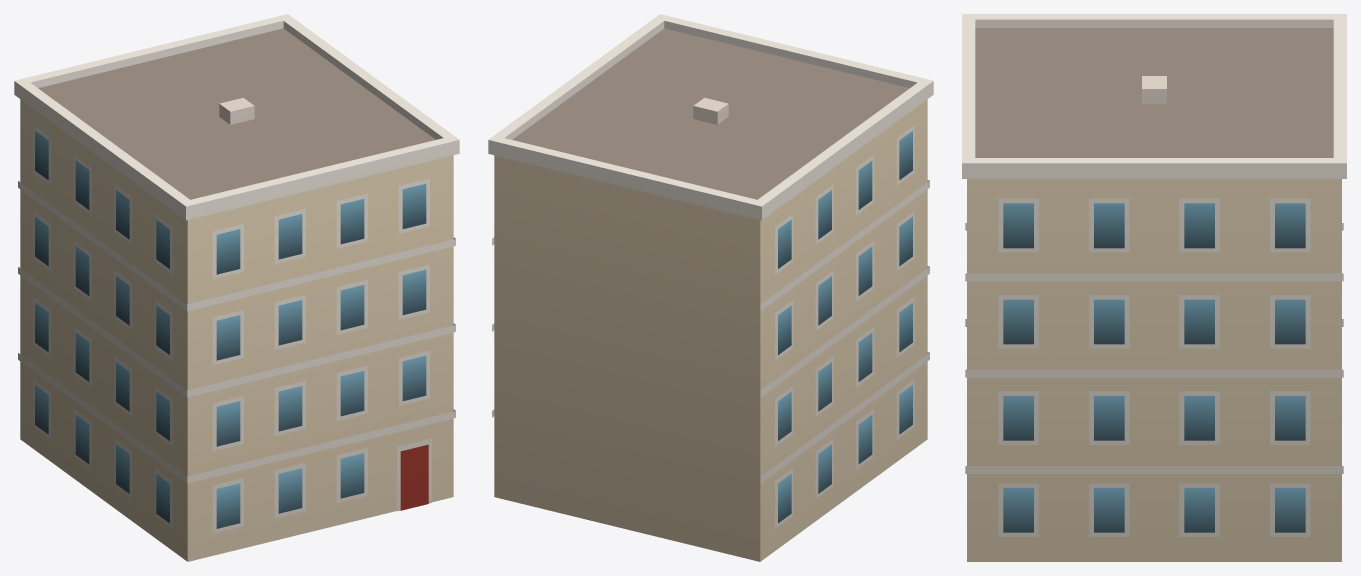
Rendered from vee_rightbb5_far.glb.
3 renders of one model, left to right at view 1: azimuth 30°, elevation 25°; view 2: azimuth 150°, elevation 25°; view 3: azimuth 270°, elevation 25°, orthographic. The views are drawn at different scales.
Parts seen in each view (by area): view 1: vee_rightbb5_far; view 2: vee_rightbb5_far; view 3: vee_rightbb5_far.
Part boxes in pixels (x1,y1,x2,y2): vee_rightbb5_far: (14, 14, 459, 561); vee_rightbb5_far: (488, 14, 933, 561); vee_rightbb5_far: (962, 14, 1346, 561).
Size of the model in its own units: 11.32 by 14.37 by 12.32.
1 material, 1 textured.
